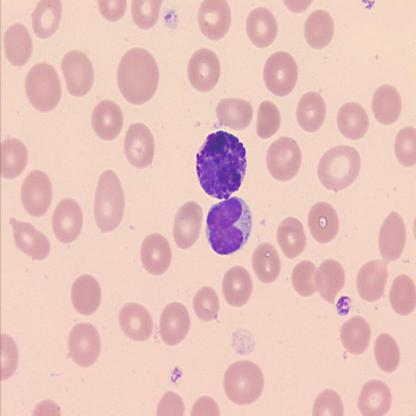Basophil: (194, 130, 253, 196), (202, 197, 253, 256)
